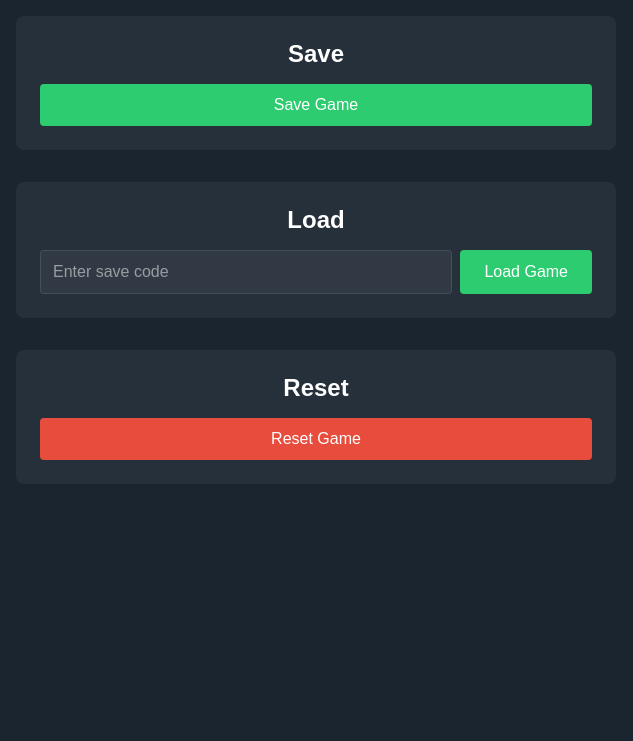
Scenario: SaveLoadView › Save Game › should show success message when saving
Click the button with class "save-button" at (316, 105), box [40,84,592,126]
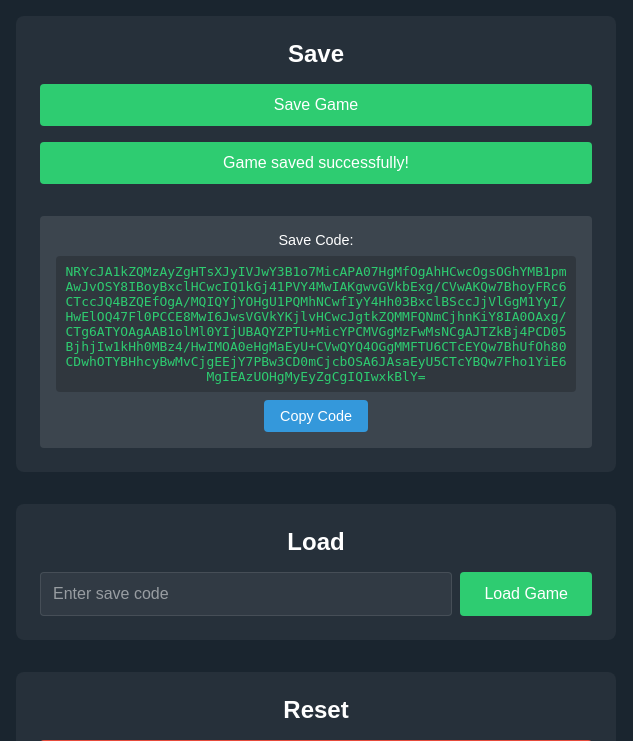
Check: the text with class "message" reads "Game saved successfully!", box [223,154,409,171]
